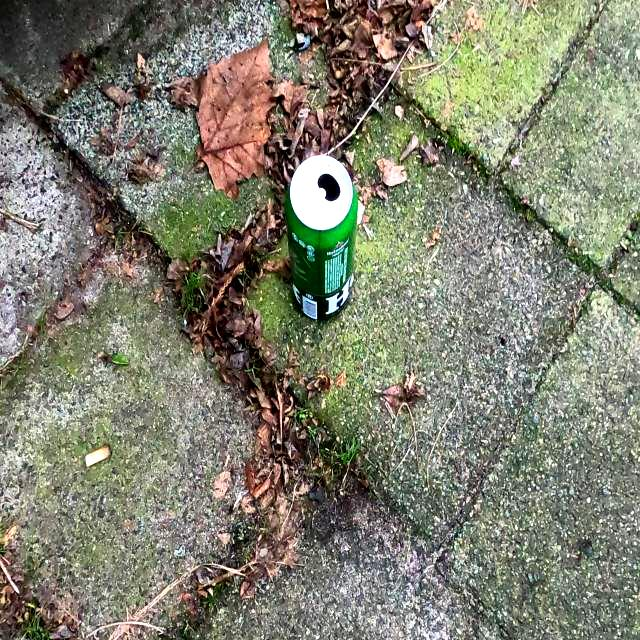Metal: (282, 152, 360, 328)
